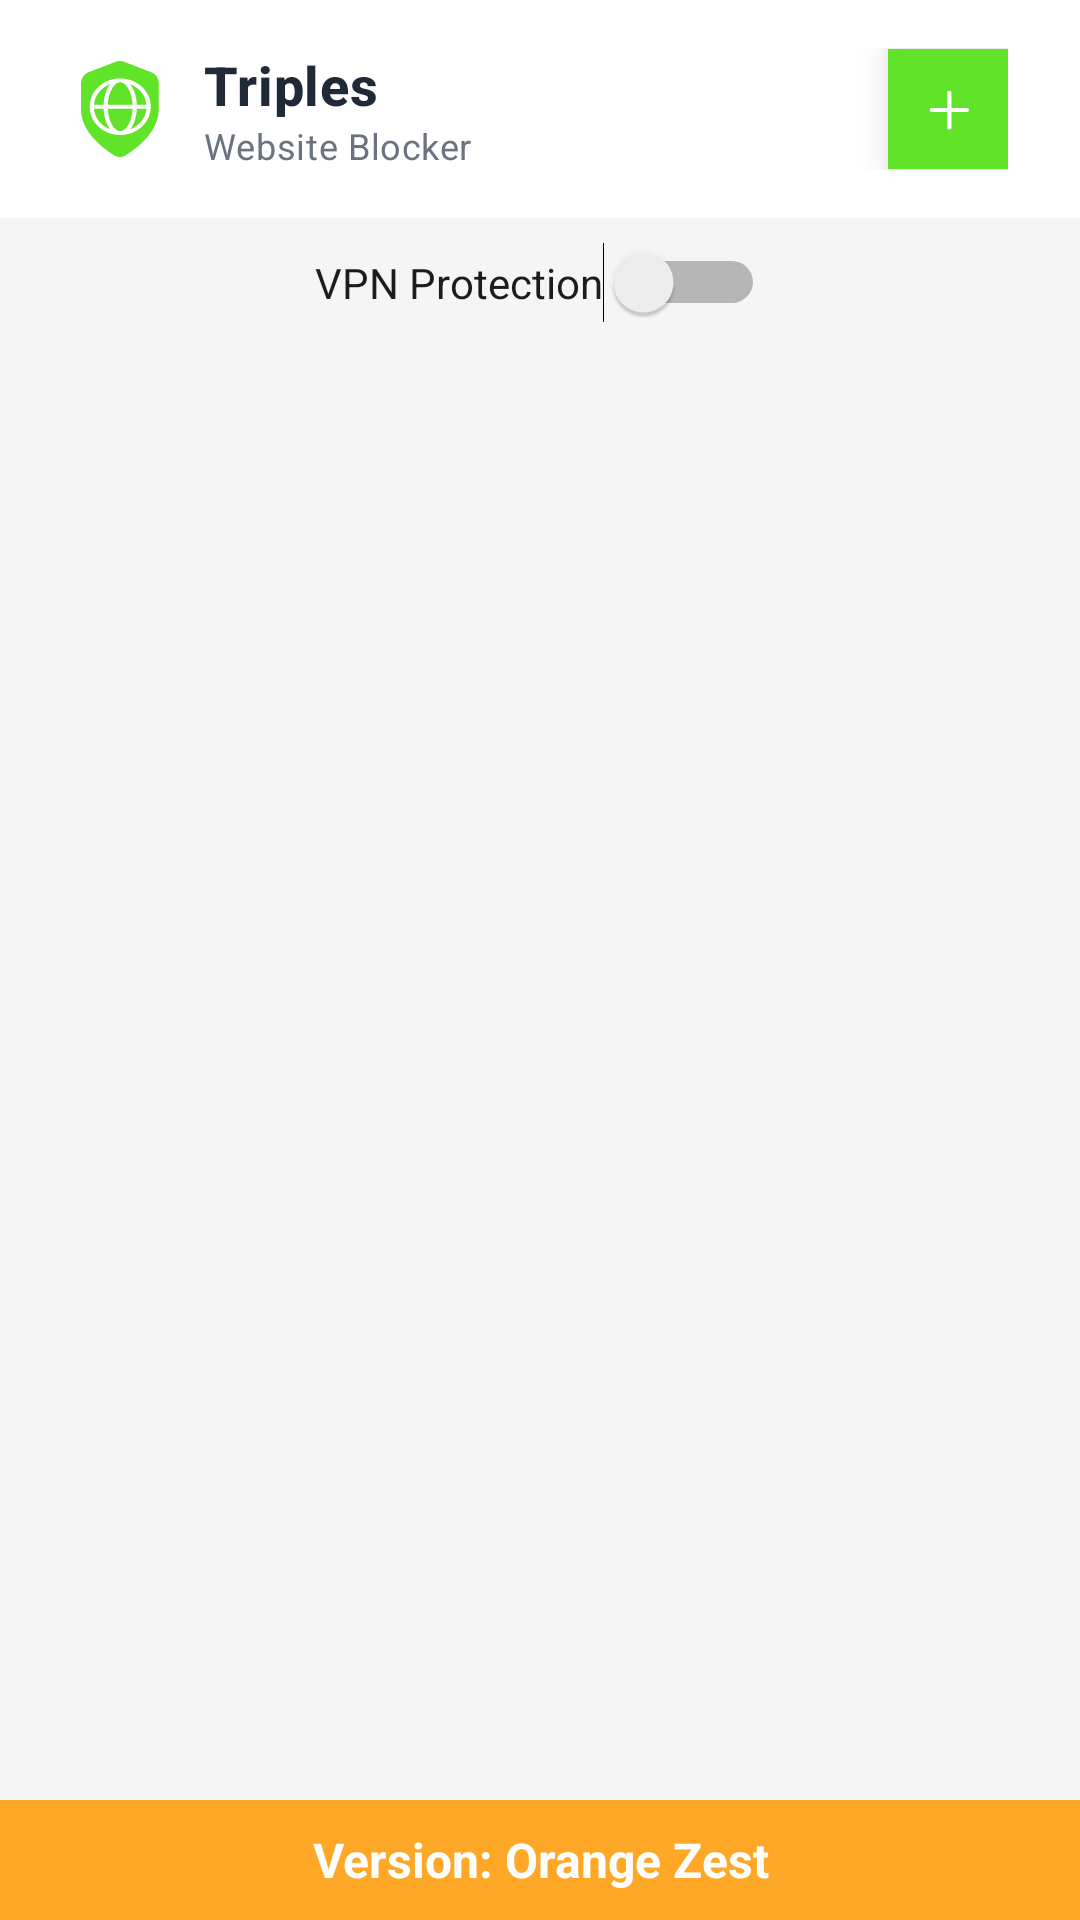

Icons on this 1080px×1920px Android screen, each with the point to tap as [x,y]:
Add Website: [948,109]
